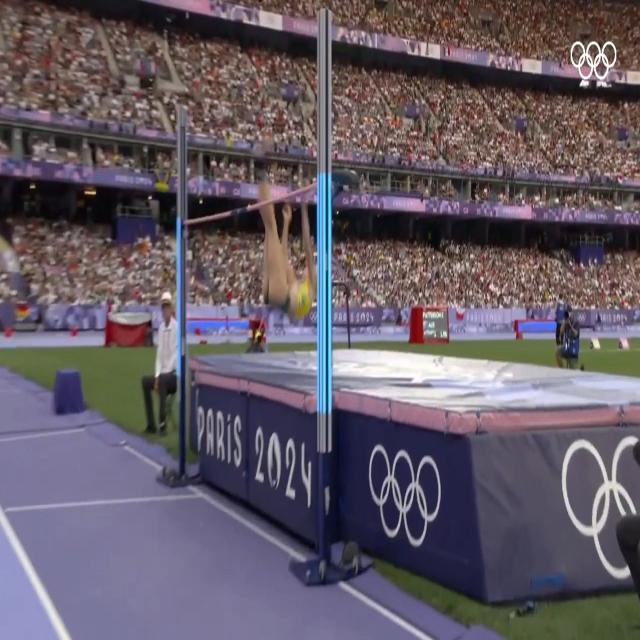land: (259, 149, 319, 313)
